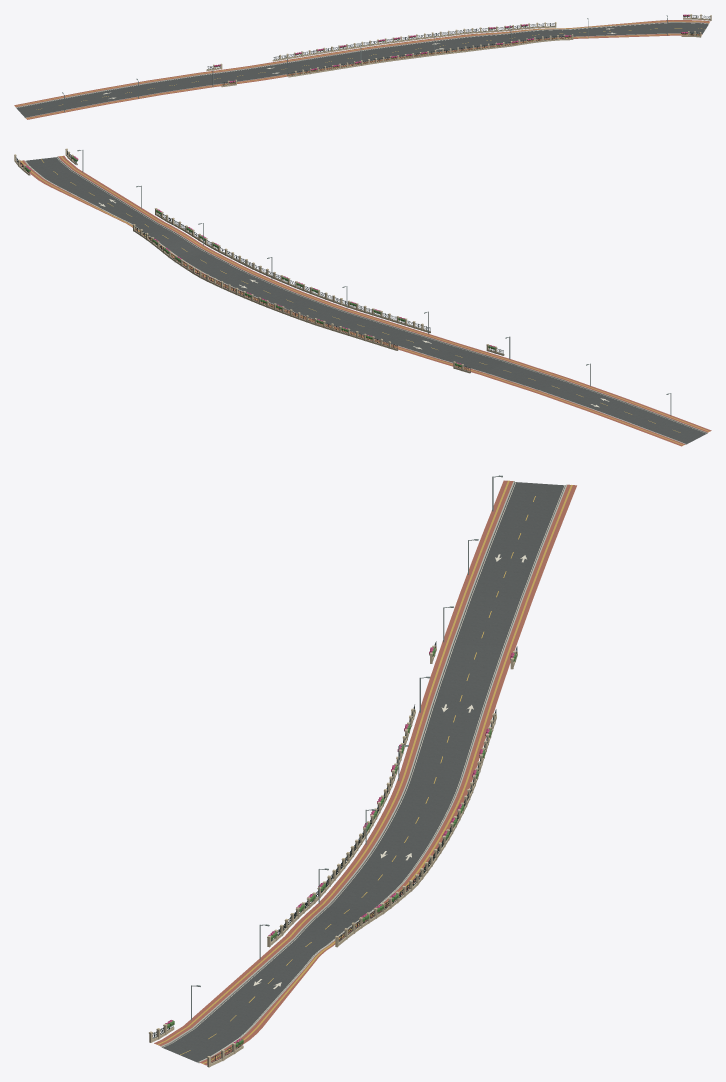
Rendered from infra-road-04.glb.
The picture shows the model from 3 angles, top to bottom: view 1: azimuth 30°, elevation 25°; view 2: azimuth 150°, elevation 25°; view 3: azimuth 270°, elevation 25°; orthographic projection. The views are drawn at different scales.
Parts seen in each view (by area): view 1: infra-road-04; view 2: infra-road-04; view 3: infra-road-04.
Part boxes in pixels (x1=…): infra-road-04: x1=14, y1=14, x2=711, y2=119; infra-road-04: x1=14, y1=148, x2=711, y2=446; infra-road-04: x1=149, y1=475, x2=576, y2=1067.
Bounding box in the file's own units: 265 × 9.63 × 80.58.
Materials: 12 (1 with a texture image).
